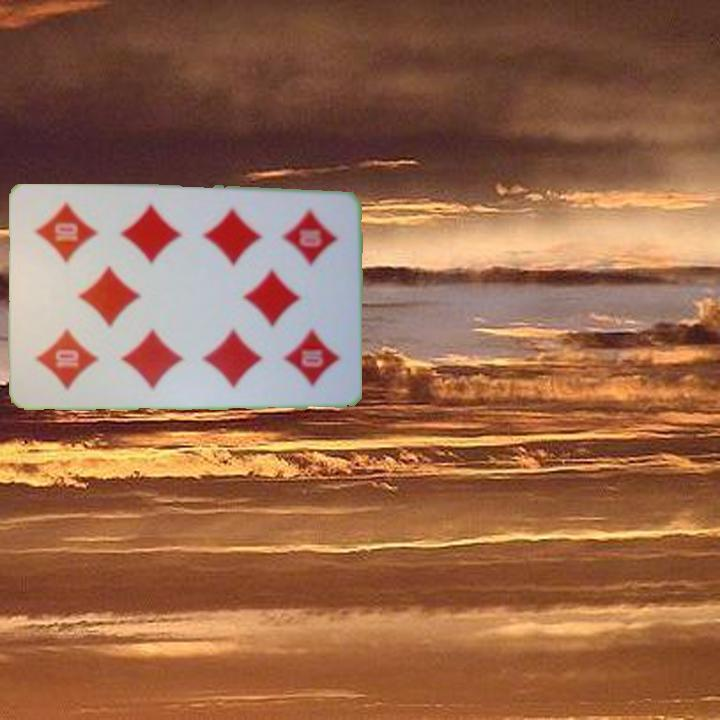d_10.png: (23, 294, 110, 394), (260, 200, 346, 301)
